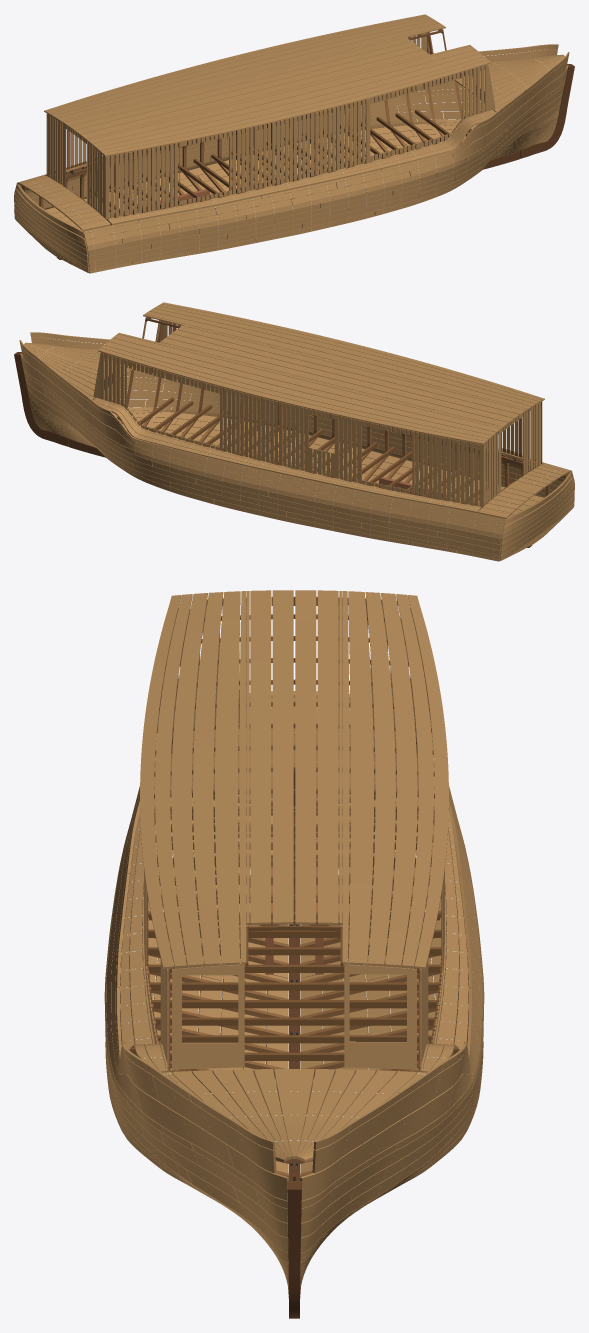
The model's file is luzeiro_v47_esqueleto.glb.
3 renders of one model, top to bottom at view 1: azimuth 30°, elevation 25°; view 2: azimuth 150°, elevation 25°; view 3: azimuth 270°, elevation 25°, orthographic. The views are drawn at different scales.
Parts seen in each view (by area): view 1: SK_Teto_Tabuas, SK_Tabuado_BE, SK_Cabine_Tabuas, SK_Tabuado_BB, SK_Conves_Tabuas, SK_Espelho_Tabuas, SK_Travessas_Piso, SK_Cavernas, SK_Cabine_Montantes, SK_Cabine_Soleira_Frechal, SK_Roda_Proa; view 2: SK_Teto_Tabuas, SK_Tabuado_BB, SK_Cabine_Tabuas, SK_Tabuado_BE, SK_Conves_Tabuas, SK_Espelho_Tabuas, SK_Travessas_Piso, SK_Cavernas, SK_Cabine_Montantes, SK_Cabine_Soleira_Frechal, SK_Roda_Proa, SK_Berco_Motor; view 3: SK_Teto_Tabuas, SK_Tabuado_BB, SK_Tabuado_BE, SK_Conves_Tabuas, SK_Travessas_Piso, SK_Cabine_Tabuas, SK_Cavernas, SK_Teto_Vaus, SK_Roda_Proa, SK_Espelho_Tabuas, SK_Sobrequilha, SK_Cabine_Montantes.
Part boxes in pixels (x1,y1,x2,y2): SK_Teto_Tabuas: (44,14,490,156); SK_Tabuado_BE: (83,52,569,273); SK_Cabine_Tabuas: (46,29,495,218); SK_Tabuado_BB: (14,44,558,239); SK_Conves_Tabuas: (17,54,564,231); SK_Espelho_Tabuas: (14,184,89,272); SK_Travessas_Piso: (74,109,461,232); SK_Cavernas: (21,81,468,238); SK_Cabine_Montantes: (47,32,476,214); SK_Cabine_Soleira_Frechal: (47,29,484,218); SK_Roda_Proa: (520,64,574,158); SK_Teto_Tabuas: (98,302,544,444); SK_Tabuado_BB: (19,340,505,561); SK_Cabine_Tabuas: (93,317,542,506); SK_Tabuado_BE: (30,332,574,527); SK_Conves_Tabuas: (24,342,571,519); SK_Espelho_Tabuas: (499,472,574,560); SK_Travessas_Piso: (127,397,514,520); SK_Cavernas: (120,369,567,526); SK_Cabine_Montantes: (104,318,541,503); SK_Cabine_Soleira_Frechal: (104,317,541,506); SK_Roda_Proa: (14,352,68,446); SK_Berco_Motor: (379,477,448,515); SK_Teto_Tabuas: (140,590,448,969); SK_Tabuado_BB: (300,720,484,1298); SK_Tabuado_BE: (104,726,288,1298); SK_Conves_Tabuas: (120,698,468,1162); SK_Travessas_Piso: (146,806,442,1112); SK_Cabine_Tabuas: (144,596,444,1070); SK_Cavernas: (120,788,468,1180); SK_Teto_Vaus: (154,614,434,966); SK_Roda_Proa: (287,1181,301,1318); SK_Espelho_Tabuas: (170,691,418,798); SK_Sobrequilha: (289,815,299,1180); SK_Cabine_Montantes: (147,606,441,1065).
Size of the model in its own units: 11.87 by 2.98 by 3.65.
